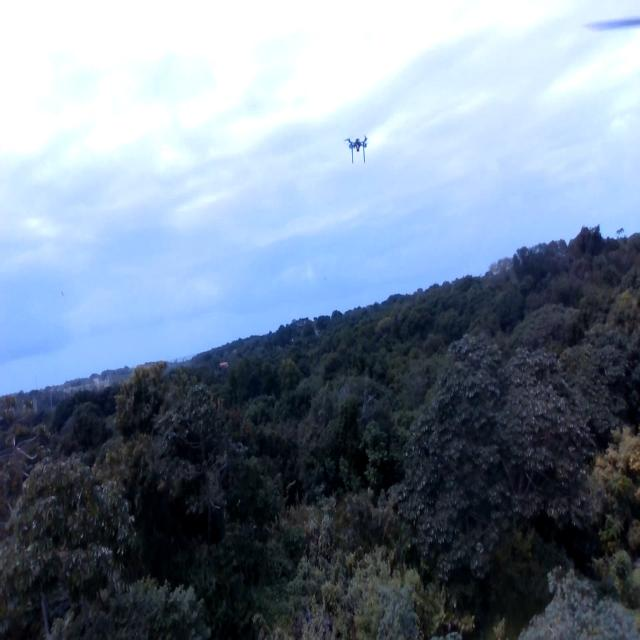-uav-: (335, 120, 376, 180)
